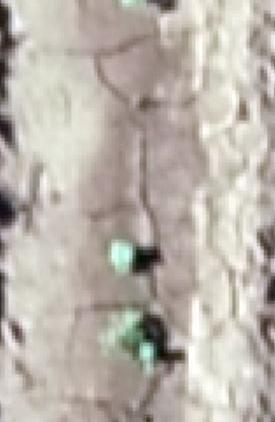cotton: (112, 315, 145, 359), (113, 239, 135, 270), (141, 344, 155, 364)
